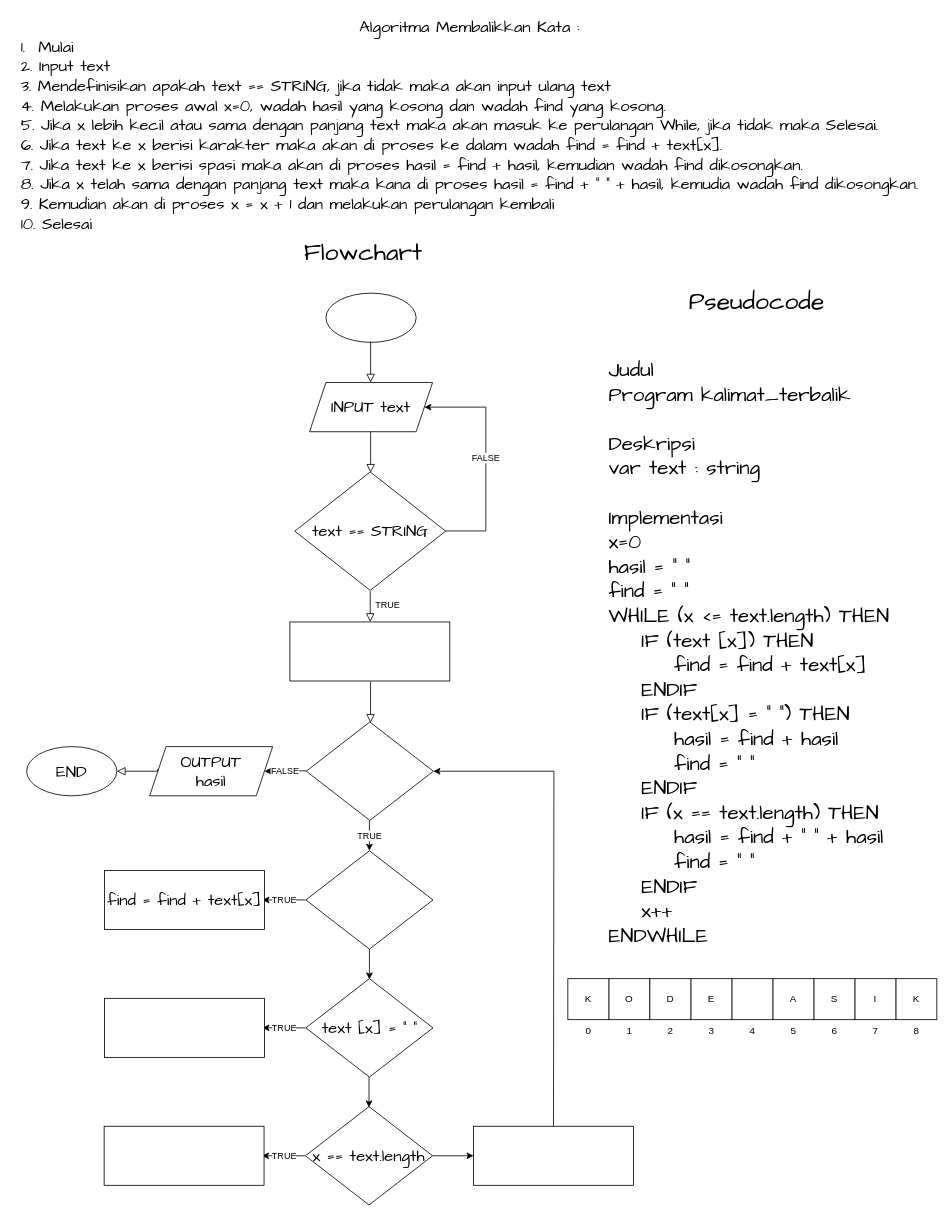
Some shapes in this 951 by 1219 pixel diagram are drawn without their labels. Here are the shapes that lost their labels. From the top down, the centre of each, then its label:
[370,317]: START
[369,651]: x = 0 hasil = "" find = ""
[369,770]: x <= text.length
[369,899]: text [x]
[184,1027]: hasil = find + hasil find = " "
[183,1155]: hasil = find + " " + hasil find = " "
[553,1155]: x = x + 1
